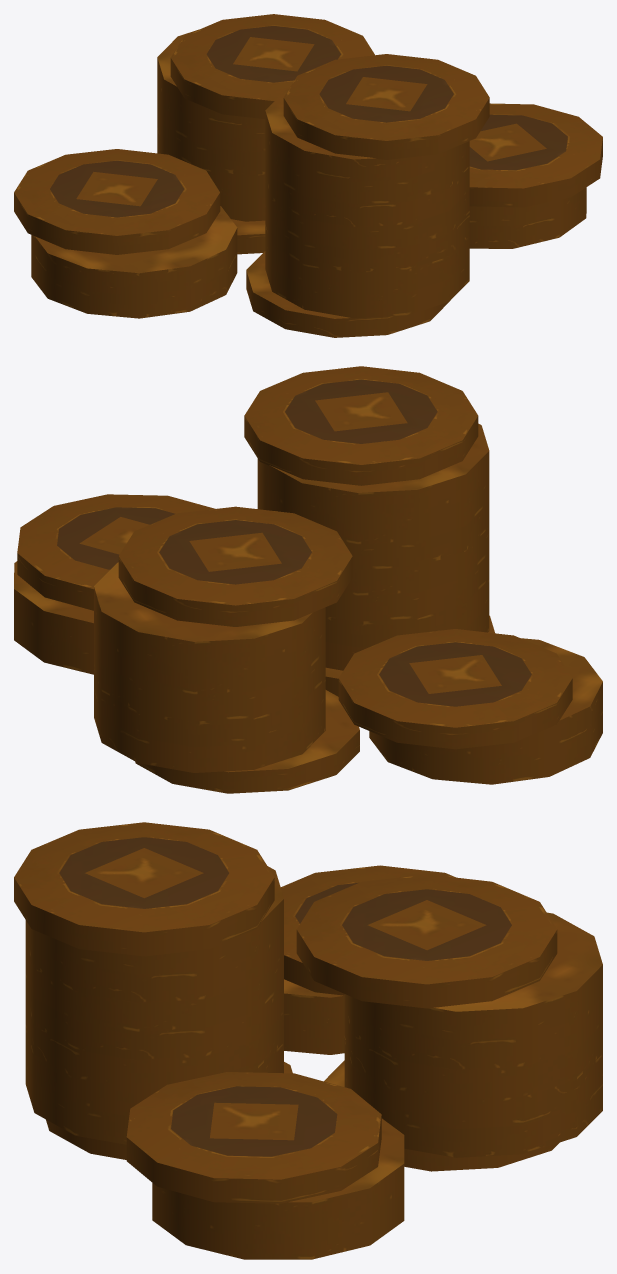
The model's file is Coin_Pile.gltf.
The picture shows the model from 3 angles, top to bottom: view 1: azimuth 30°, elevation 25°; view 2: azimuth 150°, elevation 25°; view 3: azimuth 270°, elevation 25°; orthographic projection. The views are drawn at different scales.
Parts seen in each view (by area): view 1: Coin_Pile; view 2: Coin_Pile; view 3: Coin_Pile.
Part boxes in pixels (left/top/right/bottom): Coin_Pile: left=14, top=14, right=602, bottom=337; Coin_Pile: left=14, top=366, right=602, bottom=793; Coin_Pile: left=14, top=822, right=602, bottom=1259.
Size of the model in its own units: 0.1975 by 0.0735 by 0.1542.
Materials: 1 (1 with a texture image).
